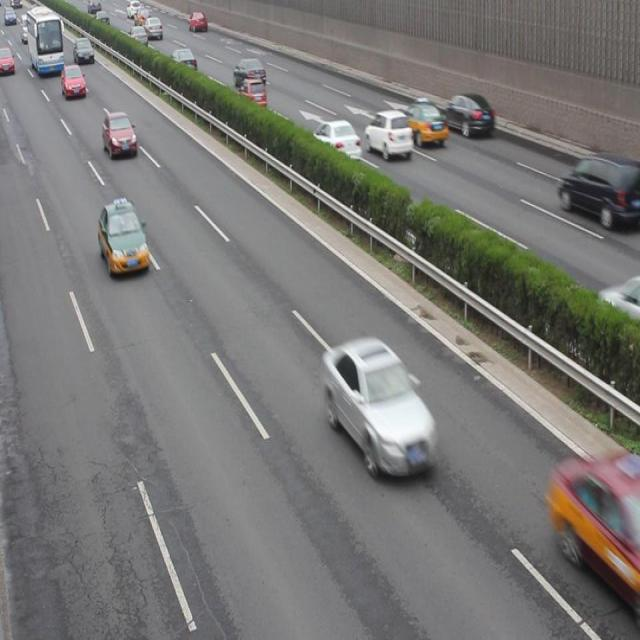car: (323, 339, 438, 481), (554, 454, 640, 600), (97, 200, 150, 278), (362, 110, 412, 160), (441, 93, 495, 139), (402, 98, 448, 146), (311, 120, 360, 164), (102, 111, 138, 158), (233, 59, 266, 88), (238, 81, 267, 110), (61, 63, 85, 98), (169, 48, 197, 75), (72, 38, 95, 66), (143, 17, 164, 39), (128, 26, 148, 49), (189, 12, 207, 34)
truck: (558, 154, 640, 228)
van: (27, 1, 66, 77)
